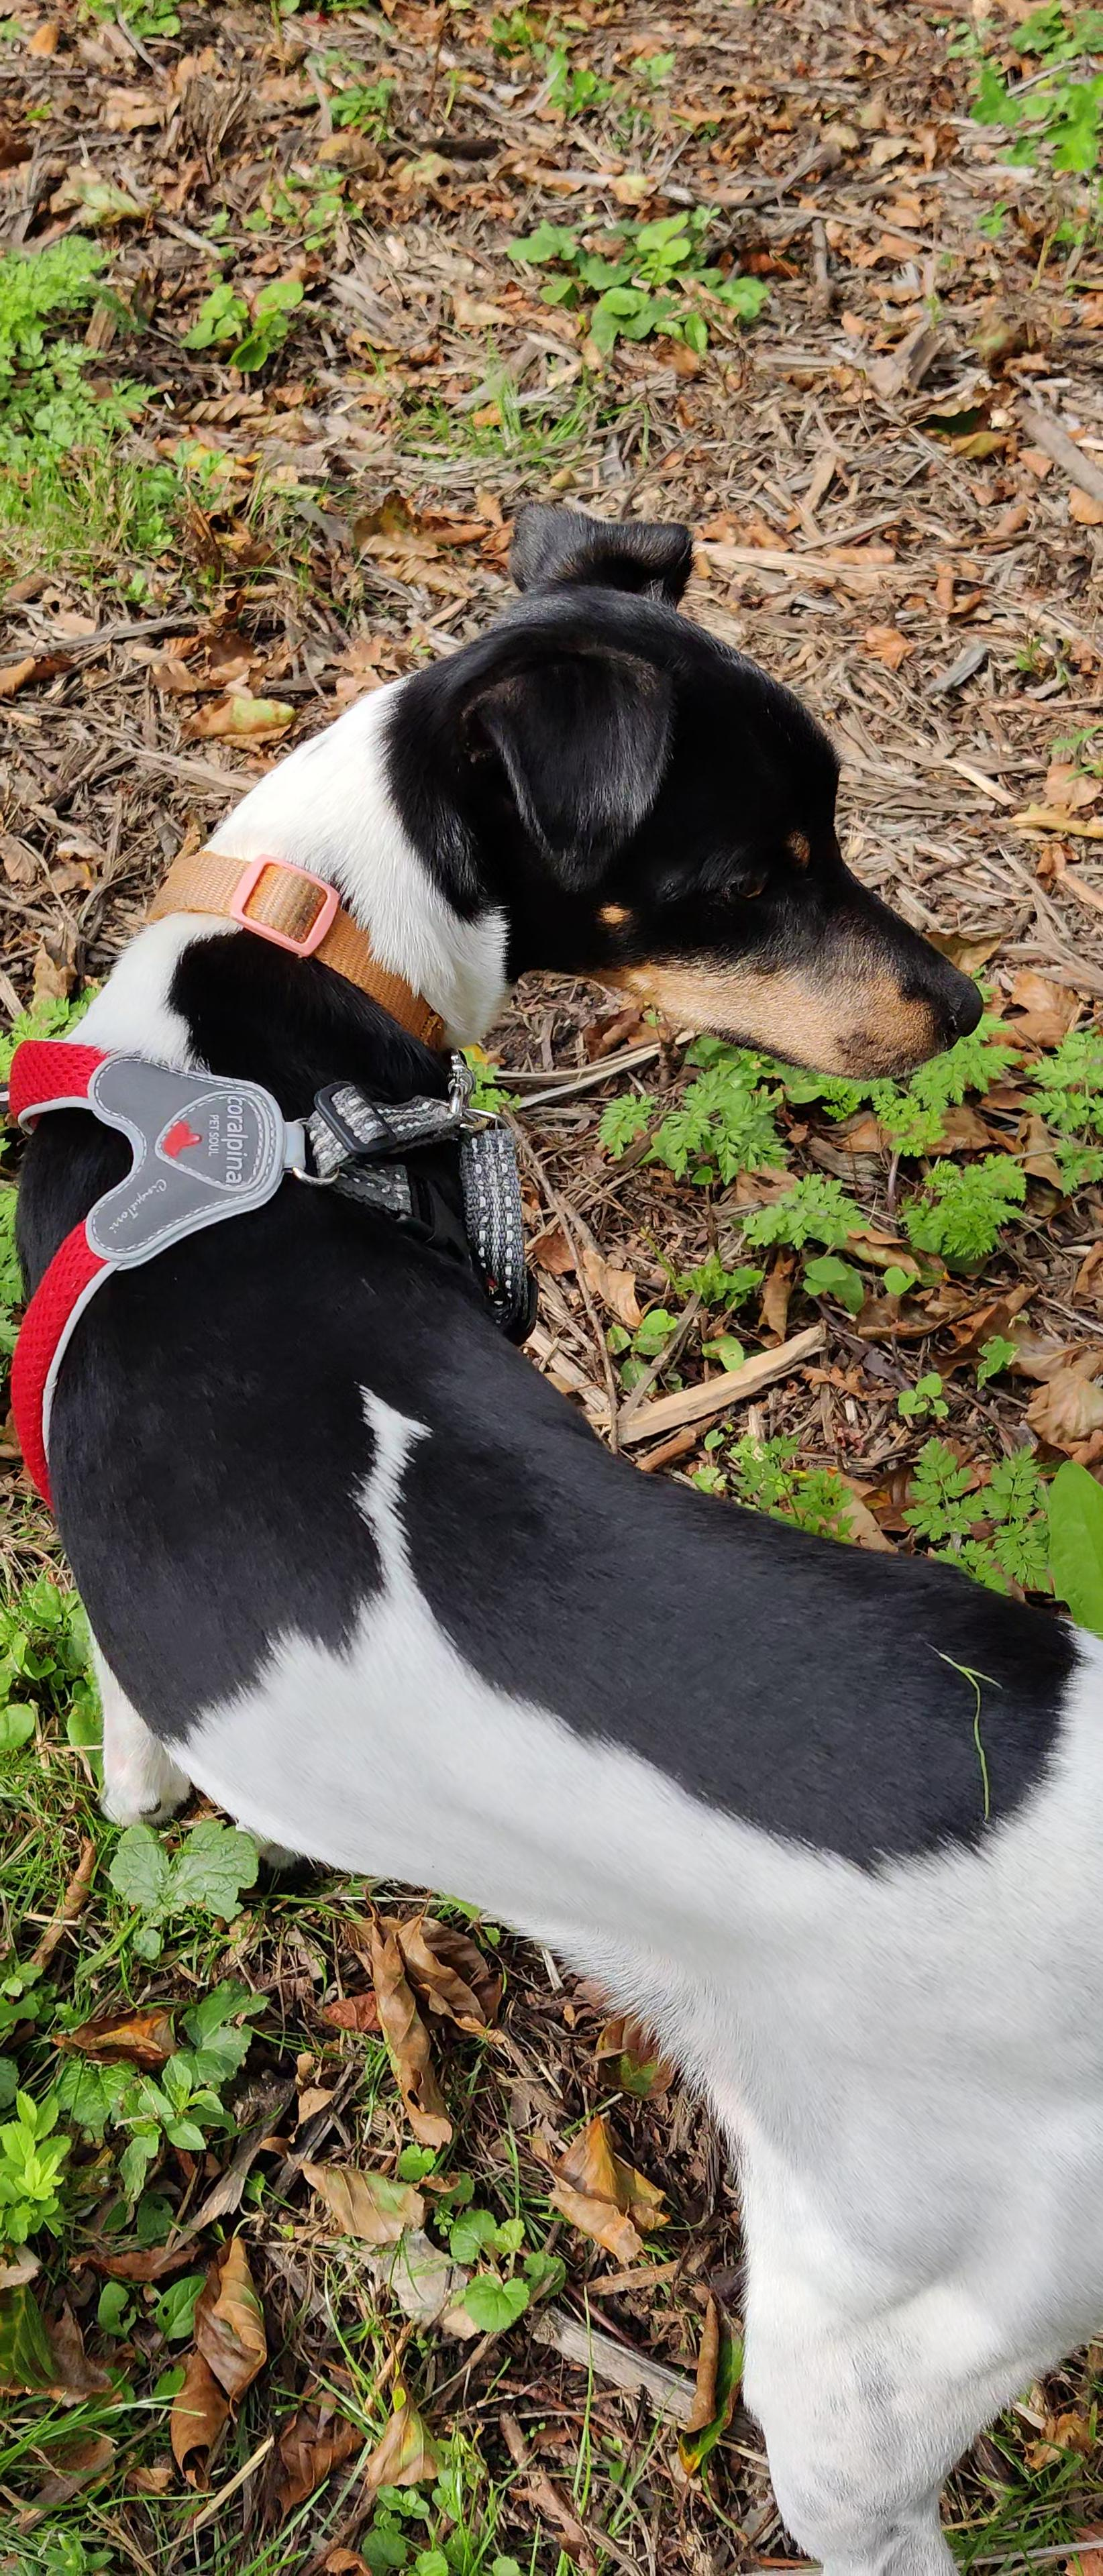Dog: (12, 498, 1103, 2576)
